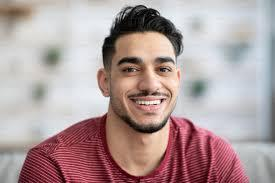person: (96, 4, 190, 133)
